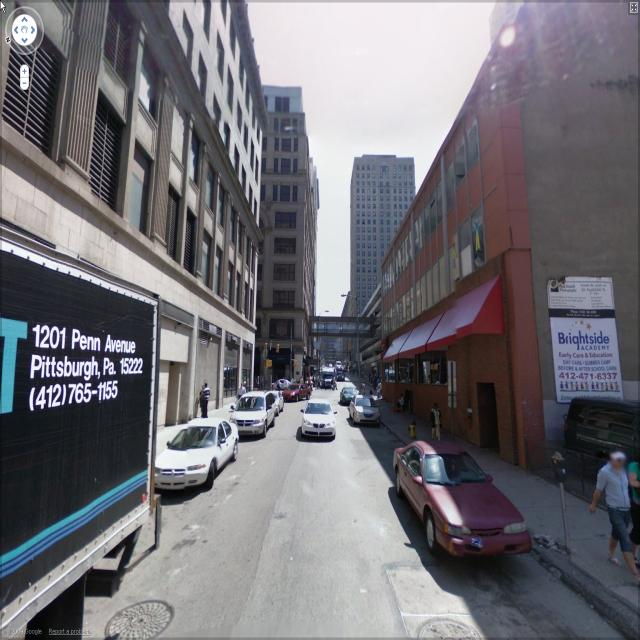b_1: (2, 1, 264, 401), (390, 73, 526, 398), (262, 92, 321, 390), (348, 140, 416, 302)
